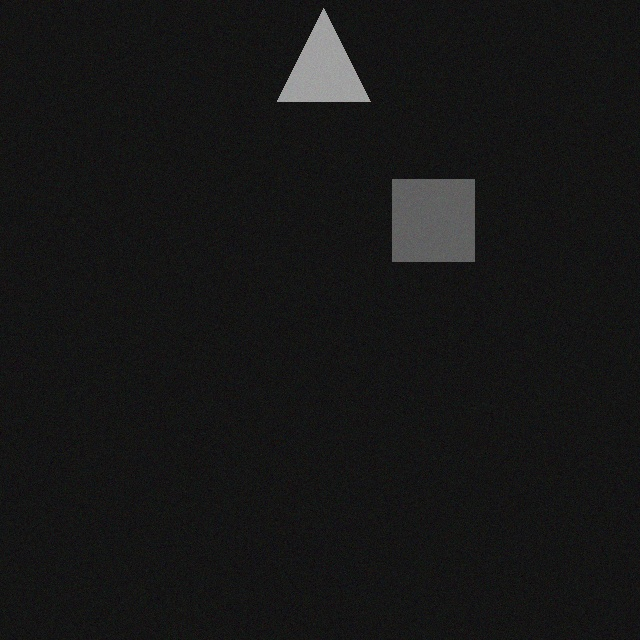square: (403, 192, 485, 274)
triangle: (288, 21, 381, 114)
